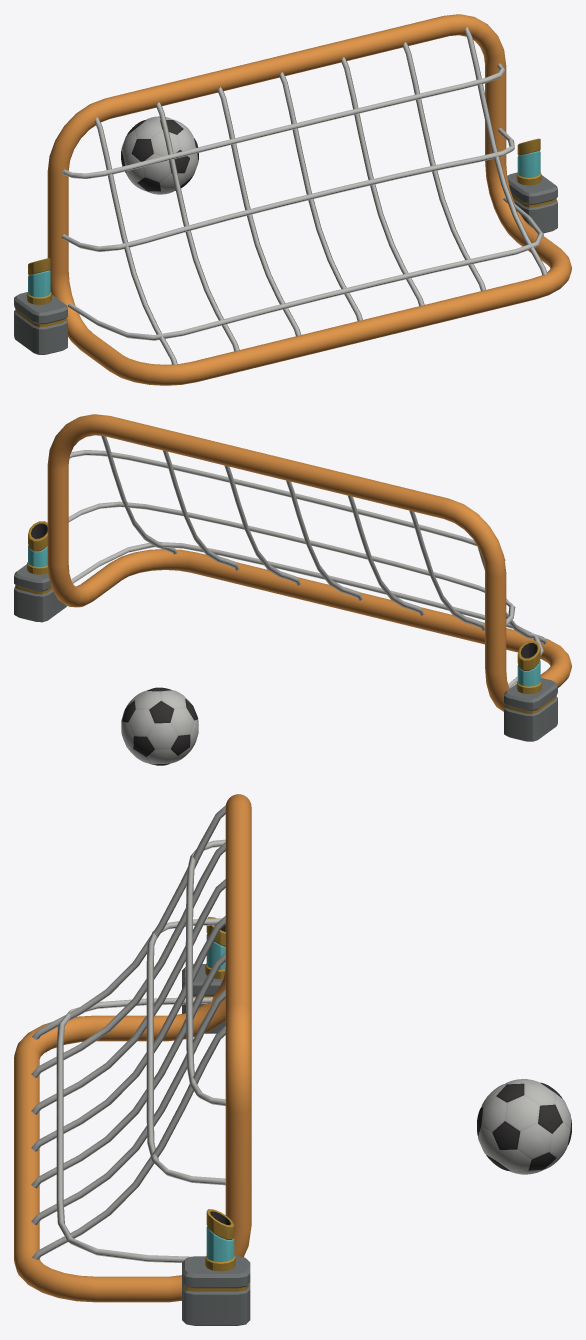
File: soccerMinigameFBX.fbx
3 views of the same model, one above another, from view 1: azimuth 30°, elevation 25°; view 2: azimuth 150°, elevation 25°; view 3: azimuth 270°, elevation 25° (orthographic). The views are drawn at different scales.
Visible parts, largest first — view 1: net, soccerBall, confettiLauncherR, confettiLauncherL; view 2: net, soccerBall, confettiLauncherR, confettiLauncherL; view 3: net, soccerBall, confettiLauncherL, confettiLauncherR.
Boxes of the visible parts, x1=… form: net: x1=47, y1=14, x2=571, y2=385; soccerBall: x1=121, y1=116, x2=198, y2=194; confettiLauncherR: x1=14, y1=258, x2=67, y2=354; confettiLauncherL: x1=507, y1=138, x2=557, y2=233; net: x1=47, y1=414, x2=571, y2=711; soccerBall: x1=121, y1=687, x2=198, y2=765; confettiLauncherR: x1=504, y1=640, x2=557, y2=741; confettiLauncherL: x1=14, y1=521, x2=66, y2=622; net: x1=14, y1=794, x2=251, y2=1302; soccerBall: x1=477, y1=1079, x2=571, y2=1174; confettiLauncherL: x1=182, y1=1209, x2=250, y2=1325; confettiLauncherR: x1=182, y1=916, x2=225, y2=1033.
Size of the model in its own units: 340 by 136 by 256.
